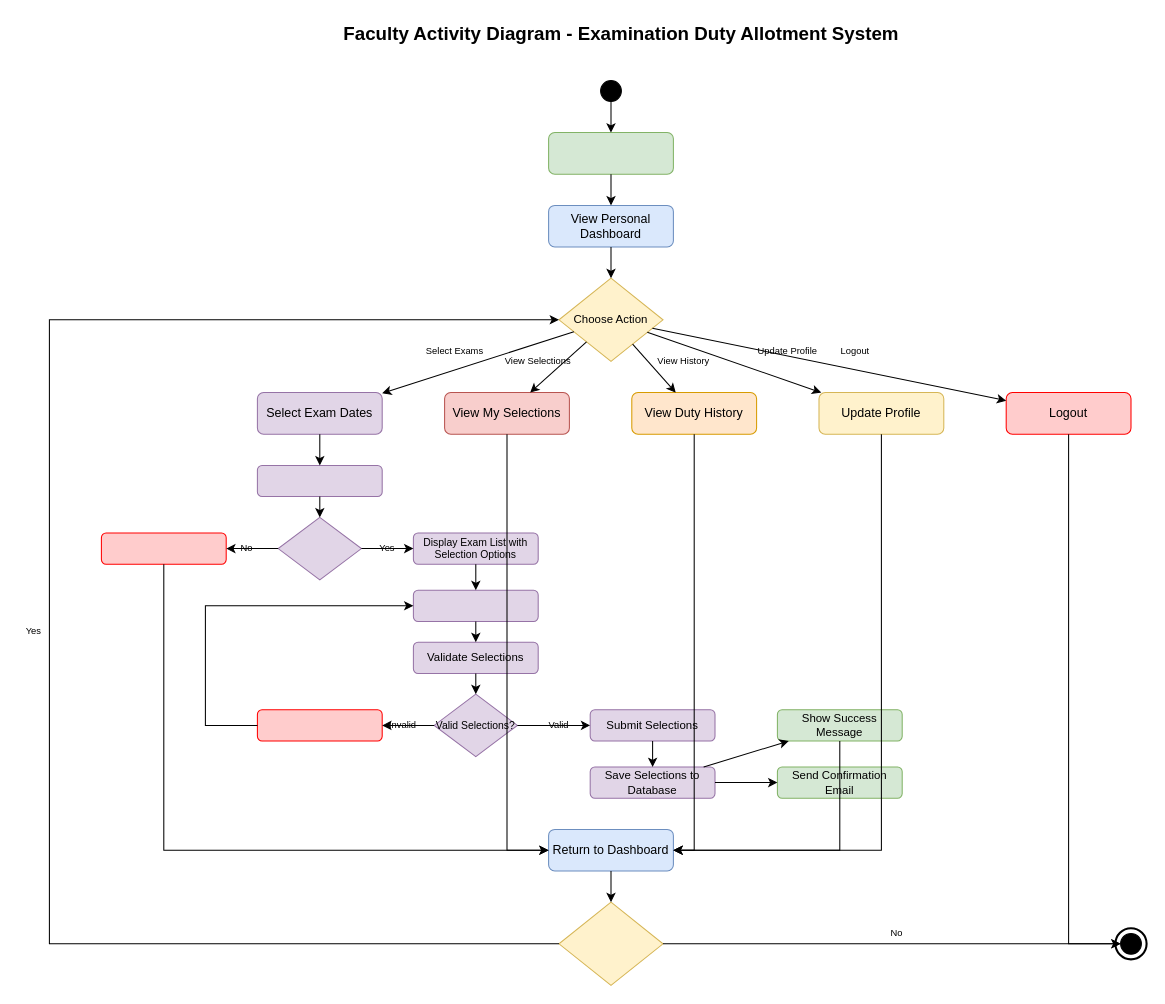
The diagram is 1165 pixels wide and 1004 high, and some of its shapes have lost their labels. The shapes that lost their labels are listed below. From the top down, each one's centre as x and y in pixels, then its label:
At [610,153]: "Login to System".
At [319,480]: "Load Available Exam Dates".
At [163,548]: "Display 'No Exams Available' Message".
At [319,548]: "Exams Available?".
At [475,605]: "Make Exam Selections".
At [319,725]: "Show Validation Errors".
At [610,943]: "Continue Working?".
